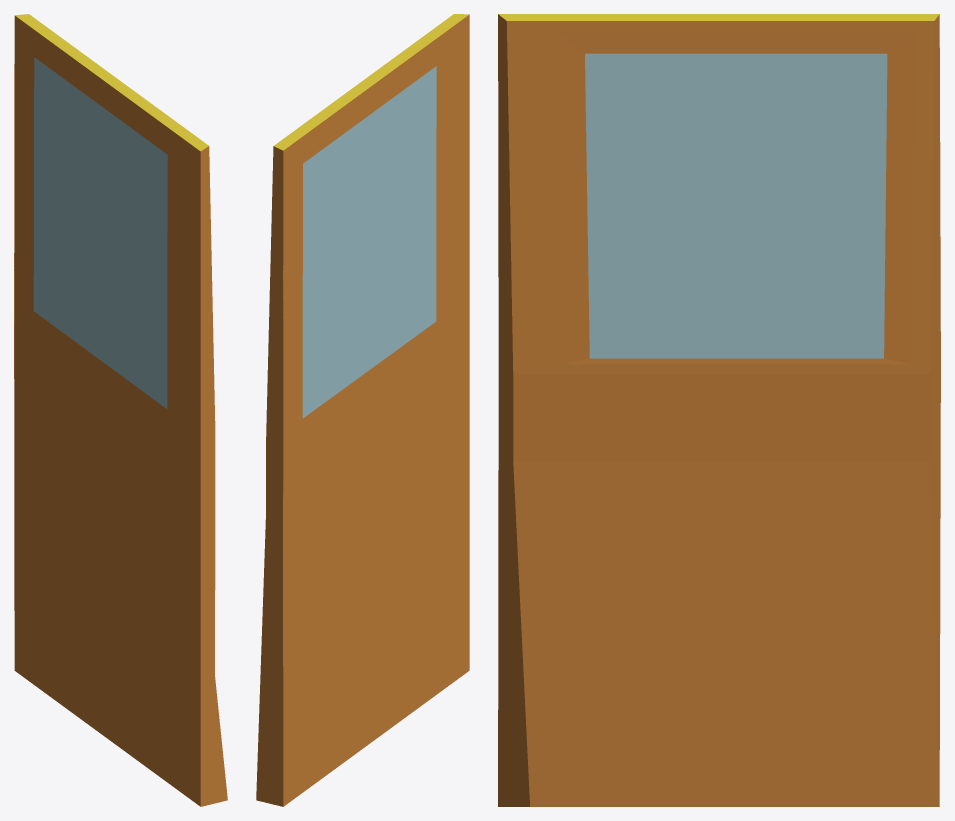
File: bus_left_window_two.fbx
3 renders of one model, left to right at view 1: azimuth 30°, elevation 25°; view 2: azimuth 150°, elevation 25°; view 3: azimuth 270°, elevation 25°, orthographic. The views are drawn at different scales.
Parts seen in each view (by area): view 1: Cube.057; view 2: Cube.057; view 3: Cube.057.
Part boxes in pixels (x1,y1,x2,y2): Cube.057: (14,14,227,806); Cube.057: (256,14,469,806); Cube.057: (498,14,940,806).
Size of the model in its own units: 6.76 by 156 by 80.53.
